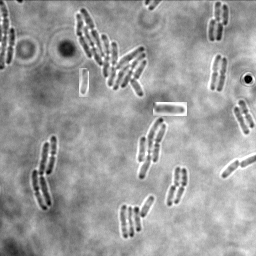Dividing: (175, 167, 189, 204), (238, 99, 255, 128), (153, 102, 187, 116), (209, 54, 222, 90), (217, 56, 228, 92), (7, 27, 17, 64)
Microcolony: (76, 7, 147, 98), (137, 117, 168, 180), (32, 135, 57, 211), (120, 195, 155, 238), (208, 1, 229, 42), (79, 68, 89, 97)
Rod: (233, 106, 251, 135), (222, 157, 240, 178), (167, 184, 177, 206), (174, 166, 183, 187)
